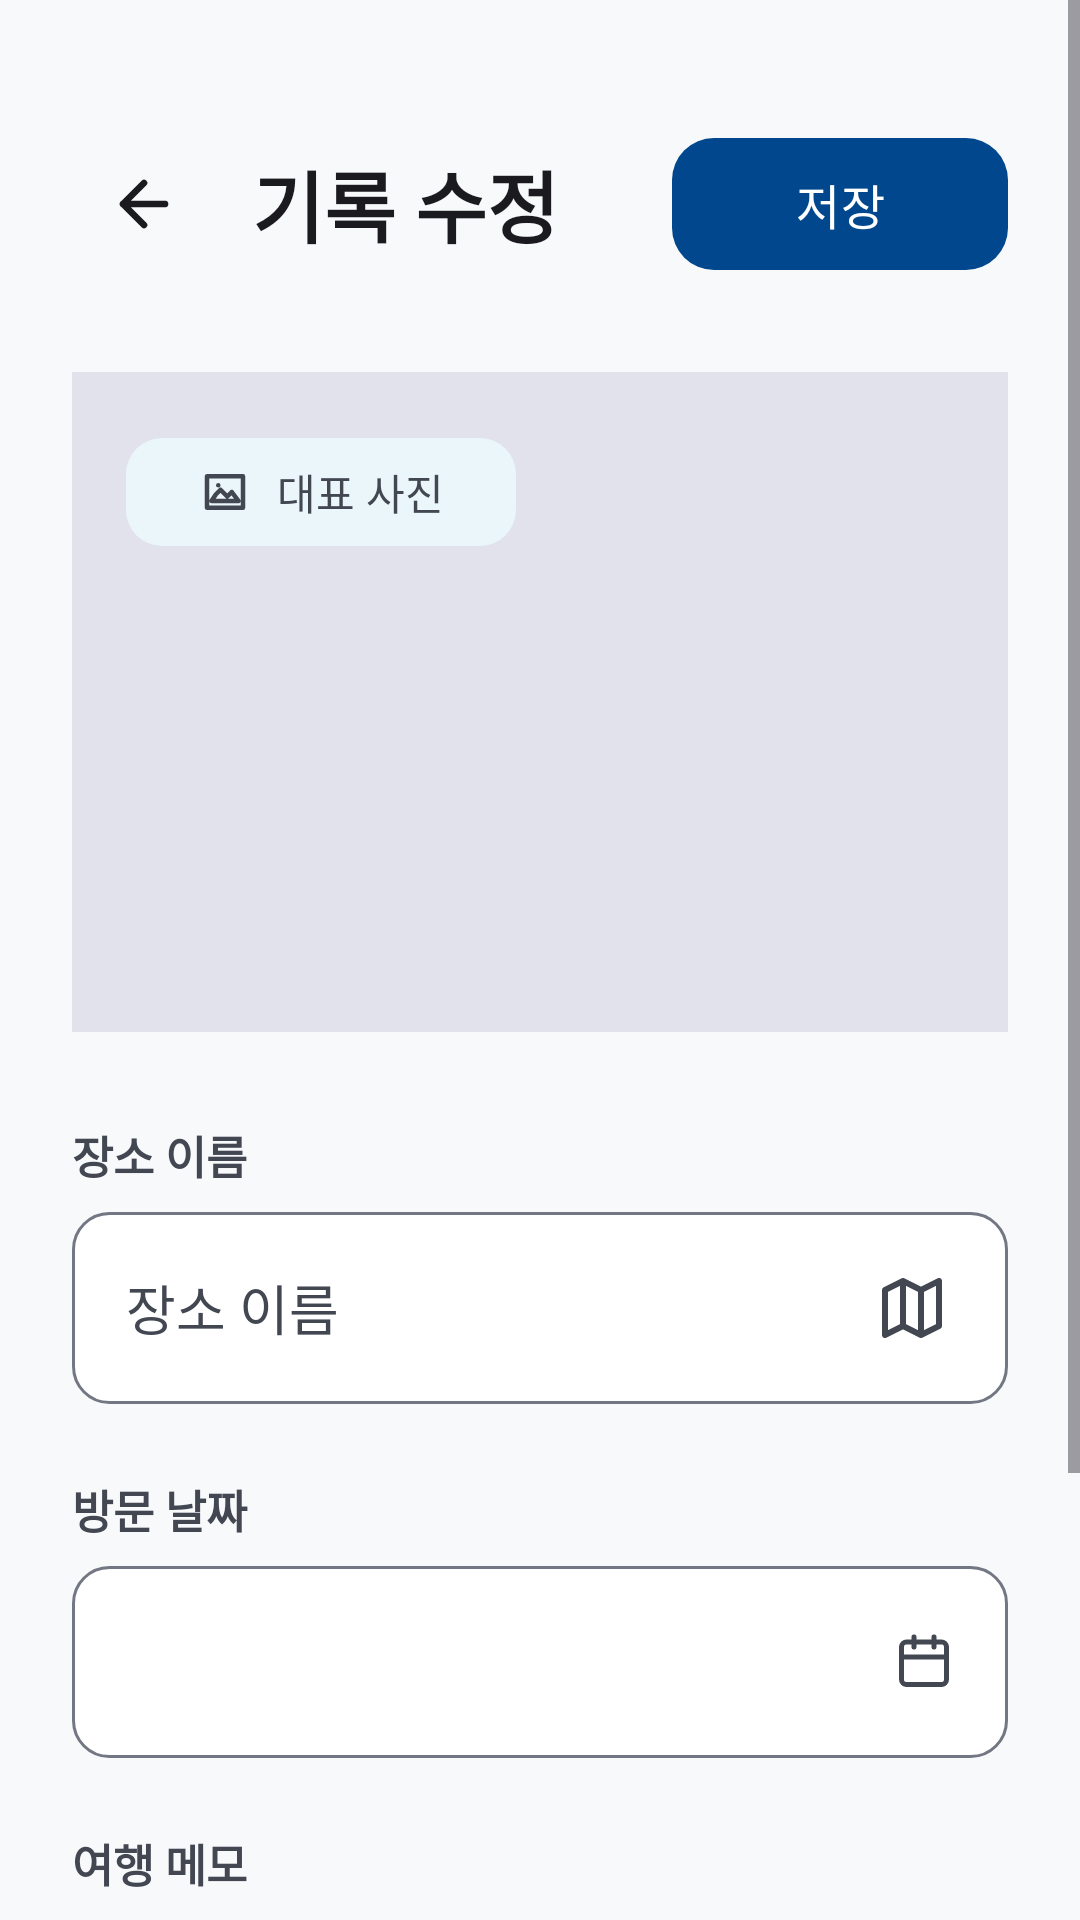

Named icons in this screenshot (1080x1920) and their centers, [x,y]:
뒤로가기: [144,204]
지도에서 장소 선택: [912,1308]
